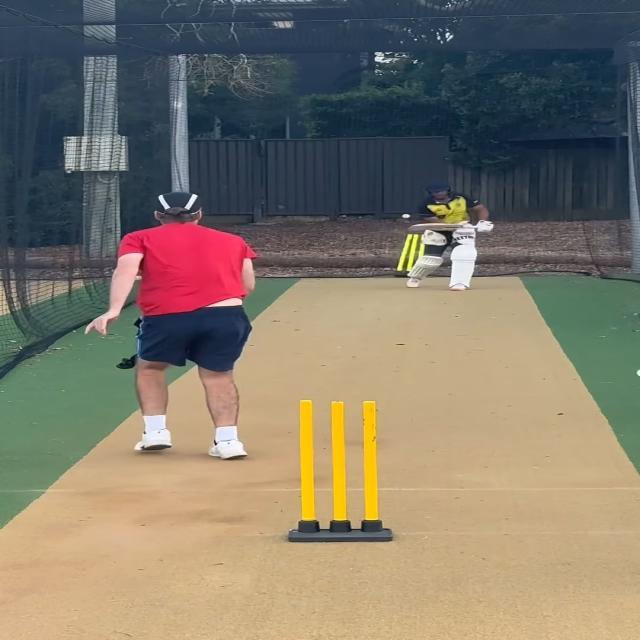stump: (284, 399, 394, 545), (390, 231, 422, 278)
